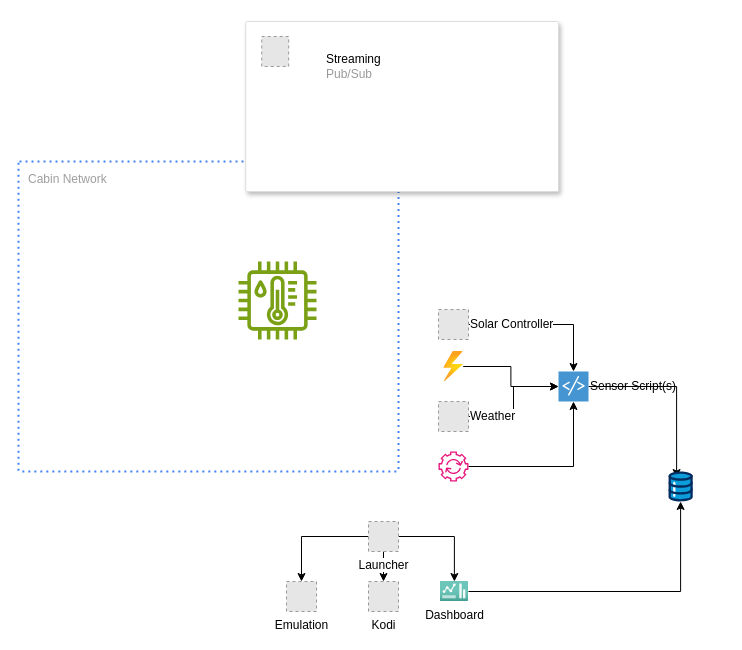
The diagram is 742 pixels wide and 650 high, and some of its shapes have lost their labels. Grey dashed boxes stand in for pictures. Each missing label, with the centre of its shape:
"Automation" belongs at (x=453, y=466).
"Inverter" belongs at (x=453, y=366).
"Local Snapshots" belongs at (x=680, y=486).
"Streaming" belongs at (x=277, y=300).
